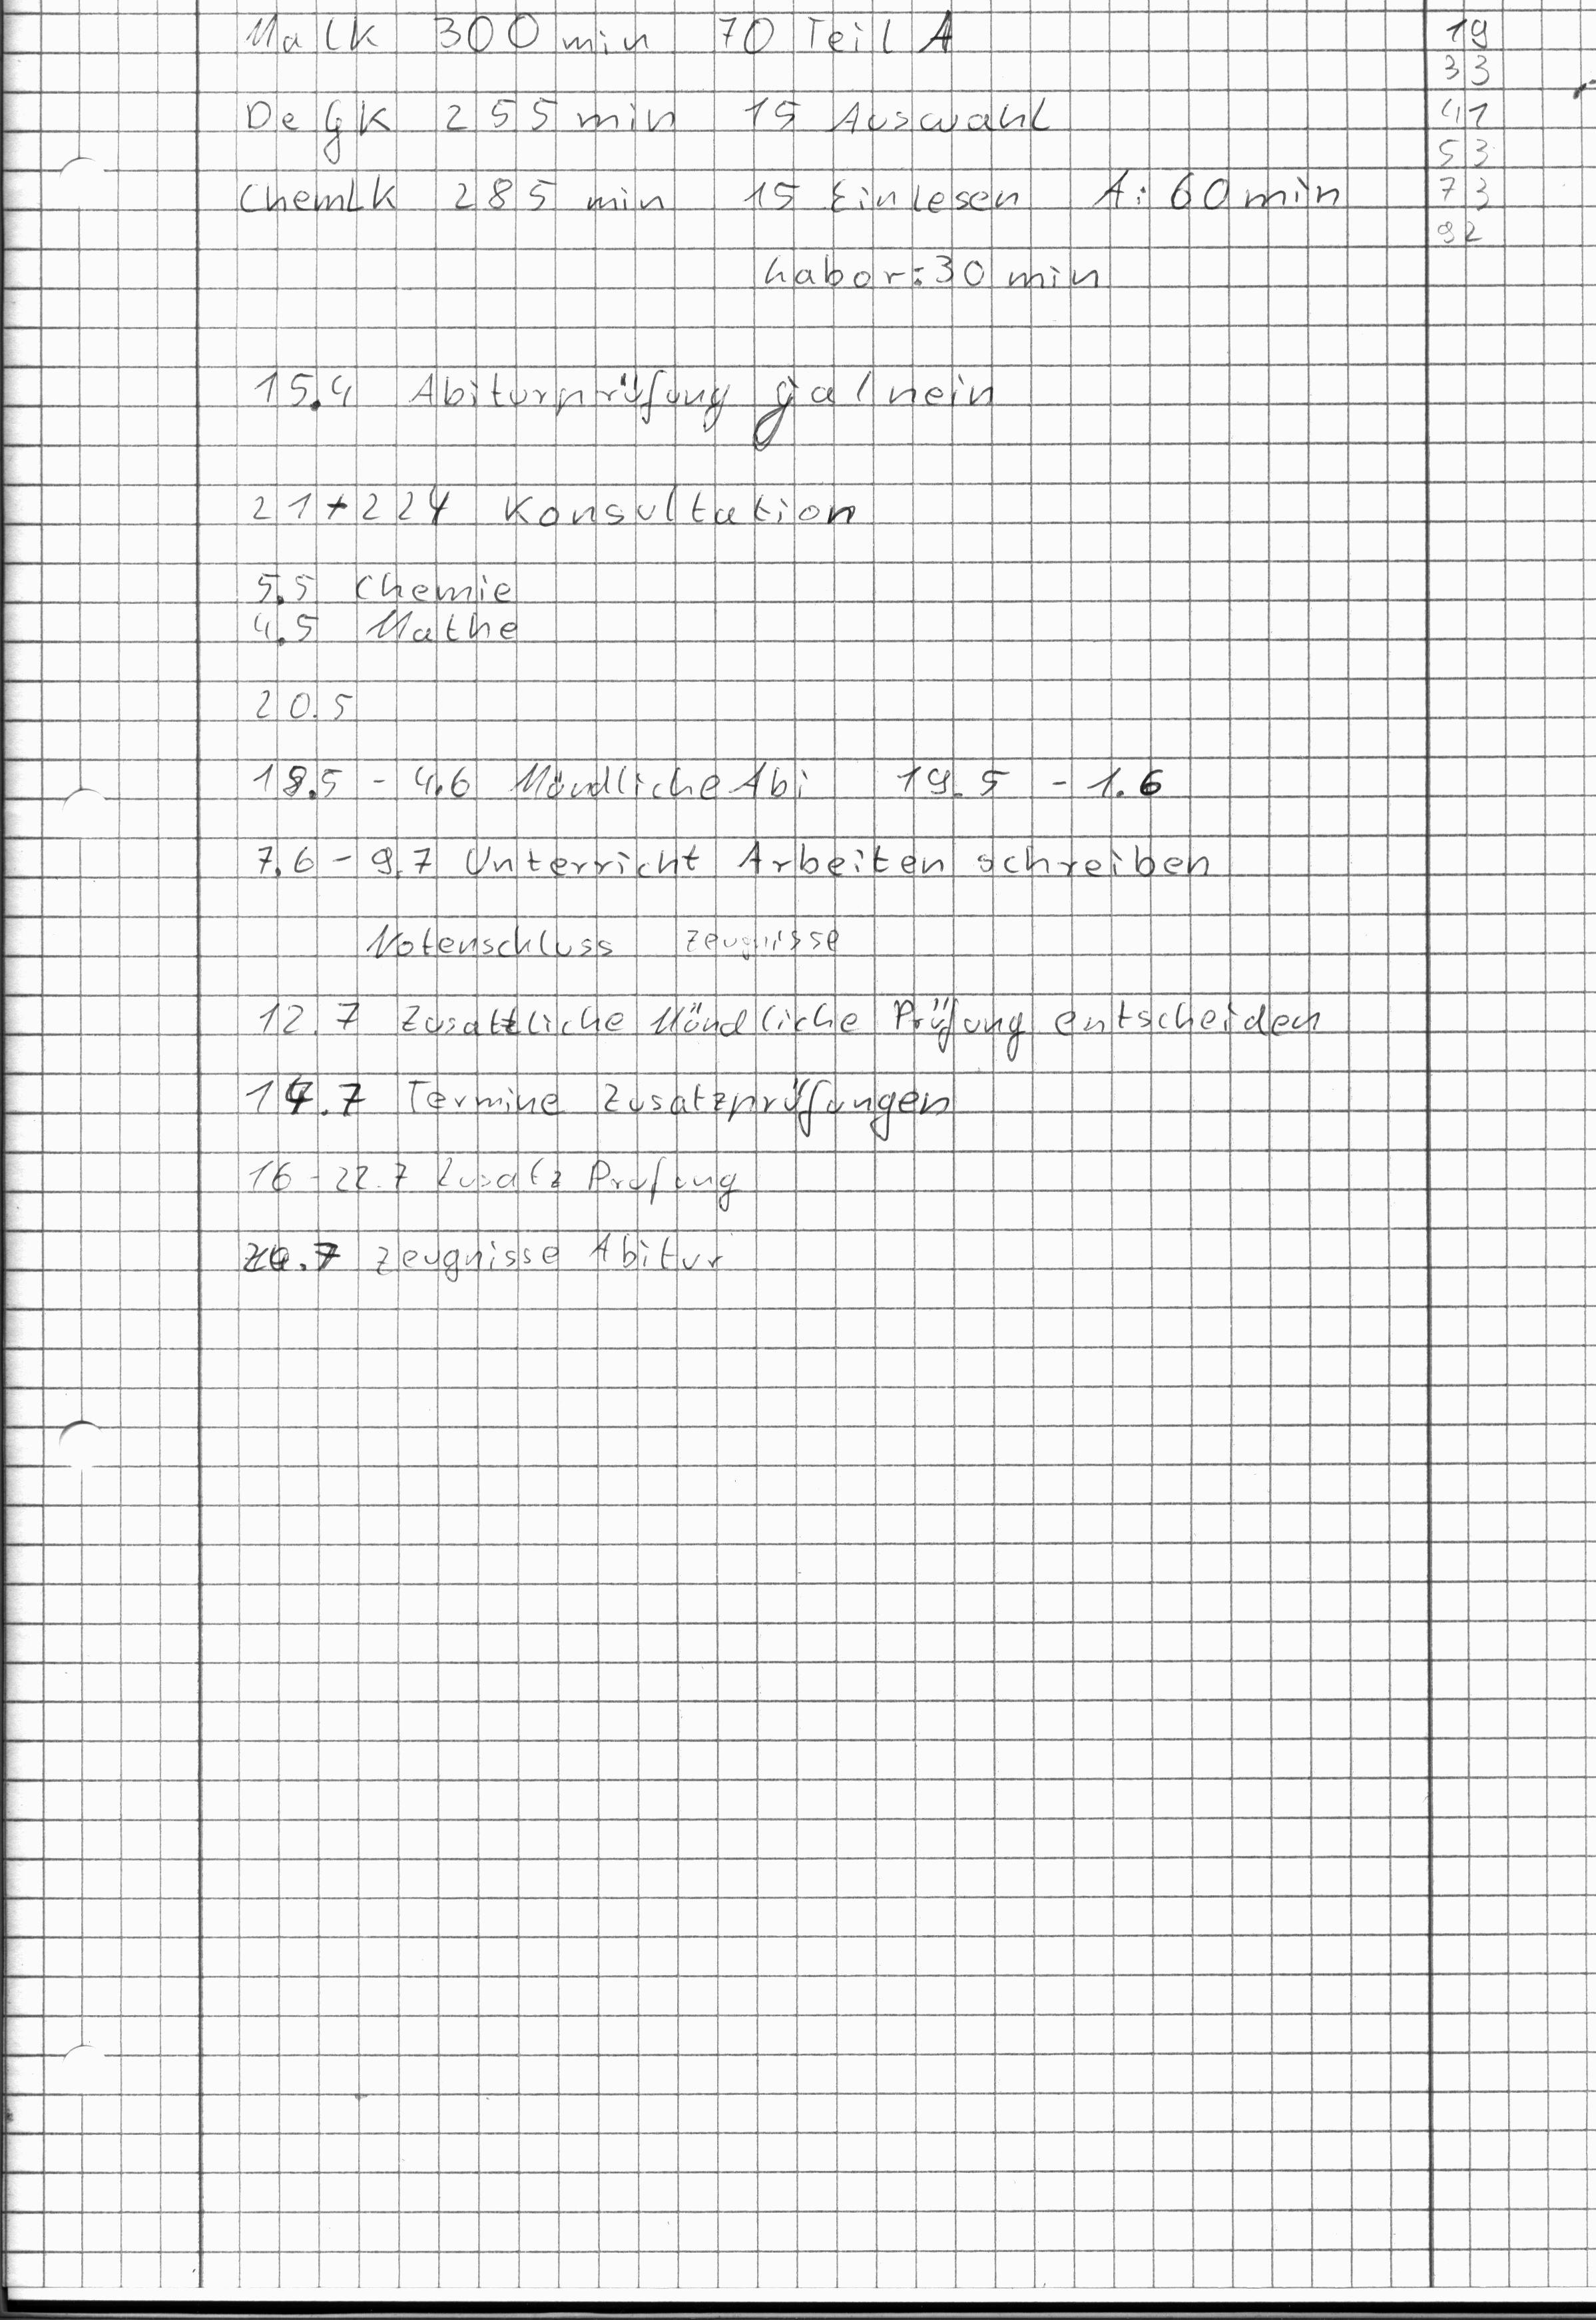word: (240, 987, 1328, 1145), (242, 748, 1220, 892), (230, 2, 1064, 168), (737, 158, 1344, 306), (244, 354, 1009, 465), (236, 1147, 743, 1292), (240, 466, 867, 545), (240, 552, 528, 660), (360, 908, 846, 972), (224, 166, 678, 228), (236, 671, 382, 742)
